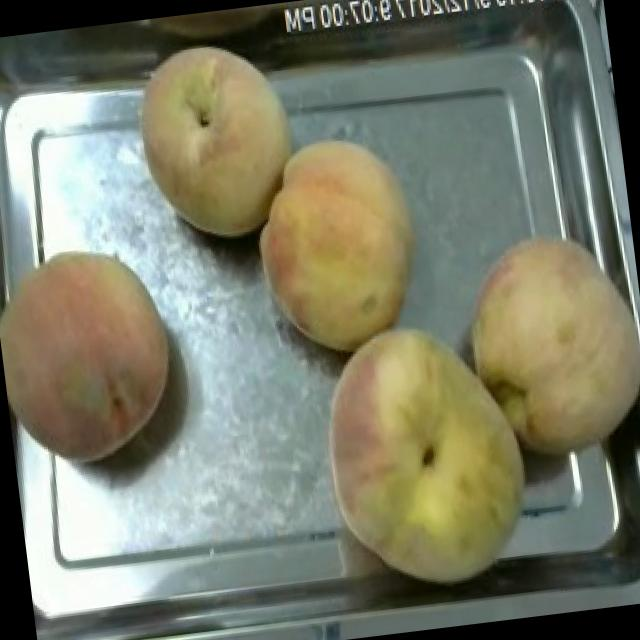Fruit: (297, 300, 556, 611), (440, 212, 640, 476), (236, 122, 438, 370), (0, 226, 194, 479), (115, 21, 318, 258)
